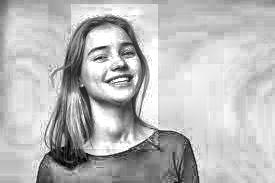happy: (71, 5, 158, 150)
